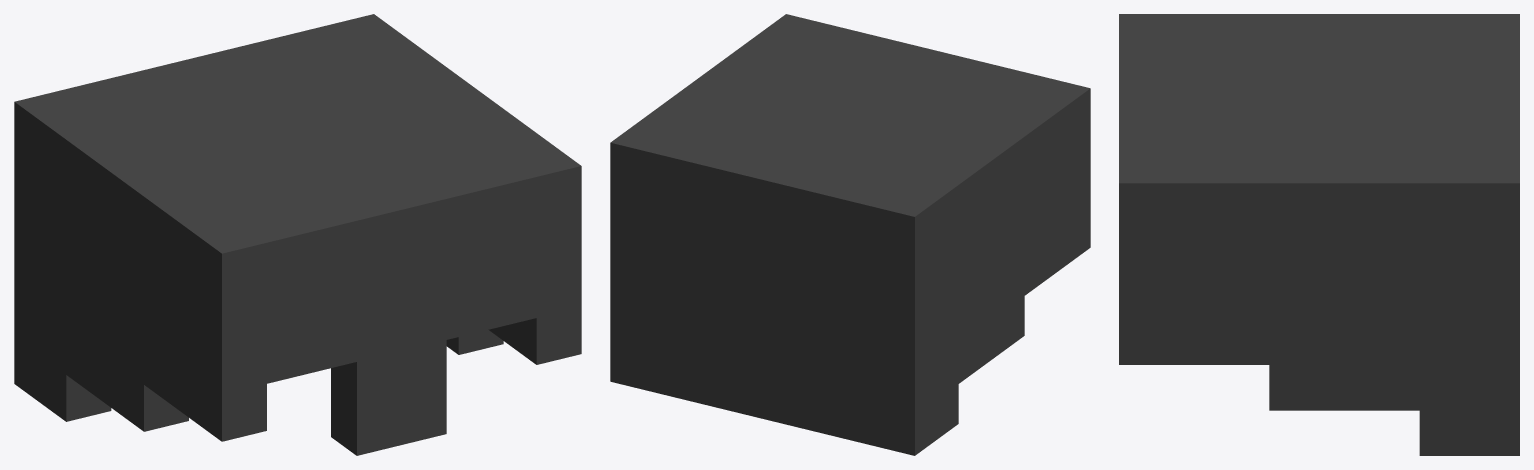
The model's file is helmet.obj.
3 renders of one model, left to right at view 1: azimuth 30°, elevation 25°; view 2: azimuth 150°, elevation 25°; view 3: azimuth 270°, elevation 25°, orthographic. The views are drawn at different scales.
Bounding box in the file's own units: 0.8 × 0.6 × 0.8.
Materials: 1 (1 with a texture image).
